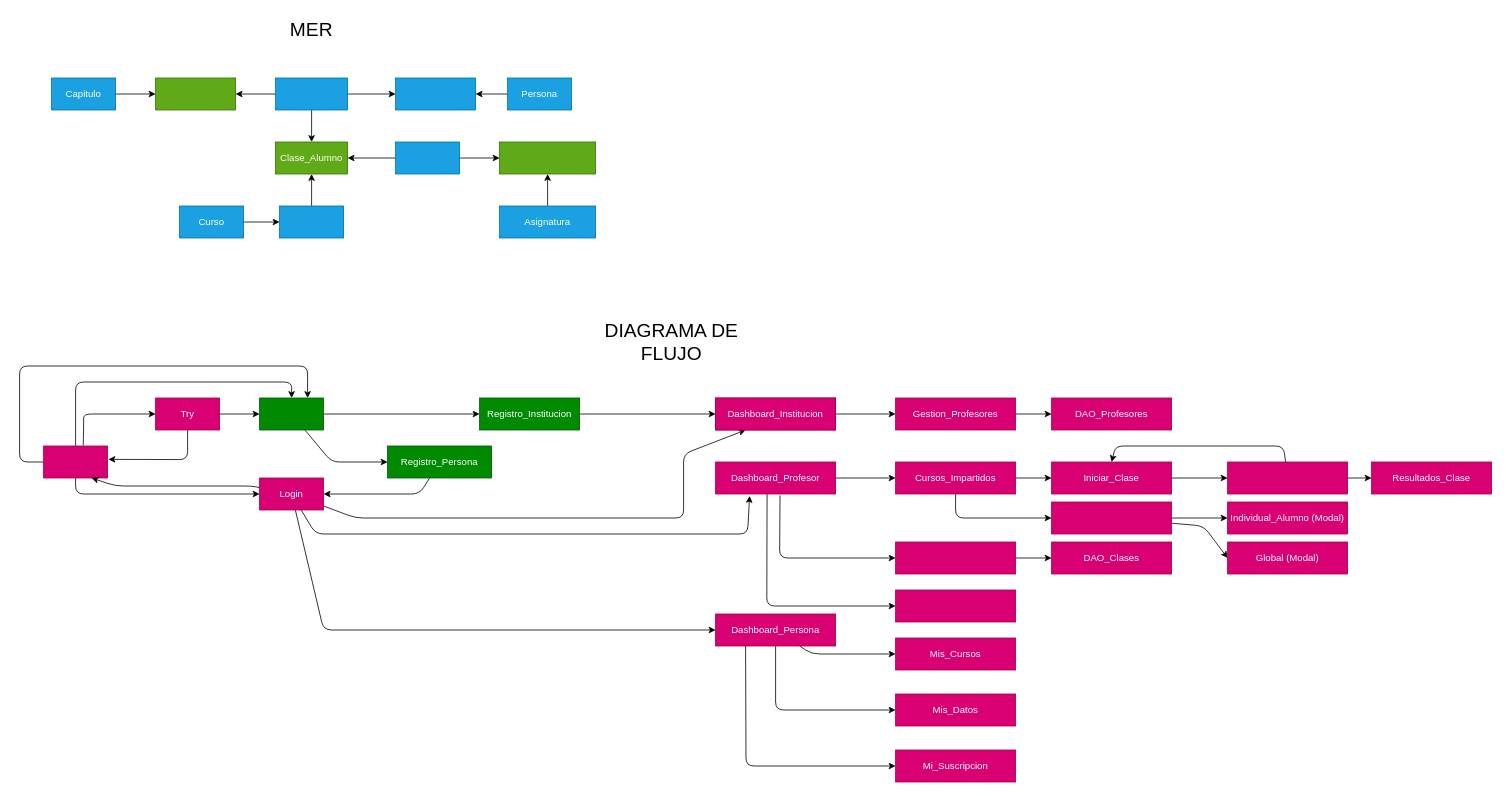
The diagram is 1506 pixels wide and 796 high, and some of its shapes have lost their labels. Here are the shapes that lost their labels. From the top down, the centre of each, then its label:
At (195,93): "Capitulo_Clase".
At (311,93): "Clase_Tutoria".
At (435,93): "Persona_Clase".
At (427,157): "Profesores".
At (547,157): "Asignatura_Profesor".
At (311,221): "Alumno".
At (291,413): "Suscribirse".
At (75,461): "Index".
At (1287,477): "Ejecucion_Clase".
At (1111,517): "Analisis Curso".
At (955,557): "Gestion_Clases".
At (955,605): "Mis_Alumnos".
